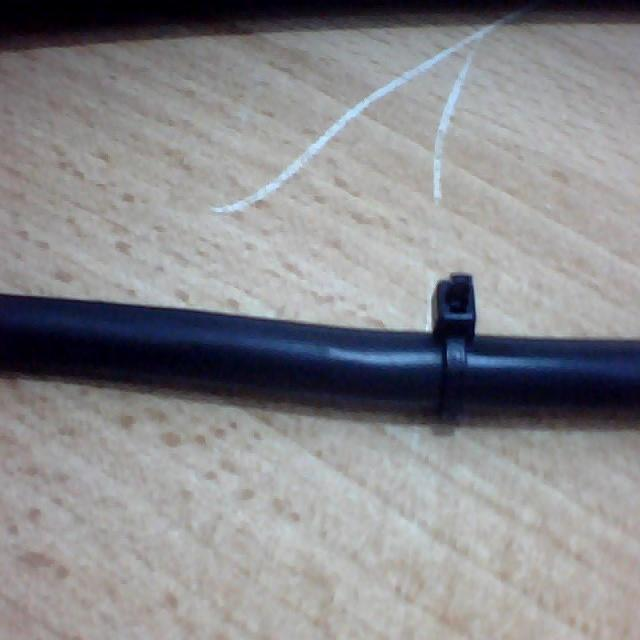cable-tie: (430, 272, 478, 419)
